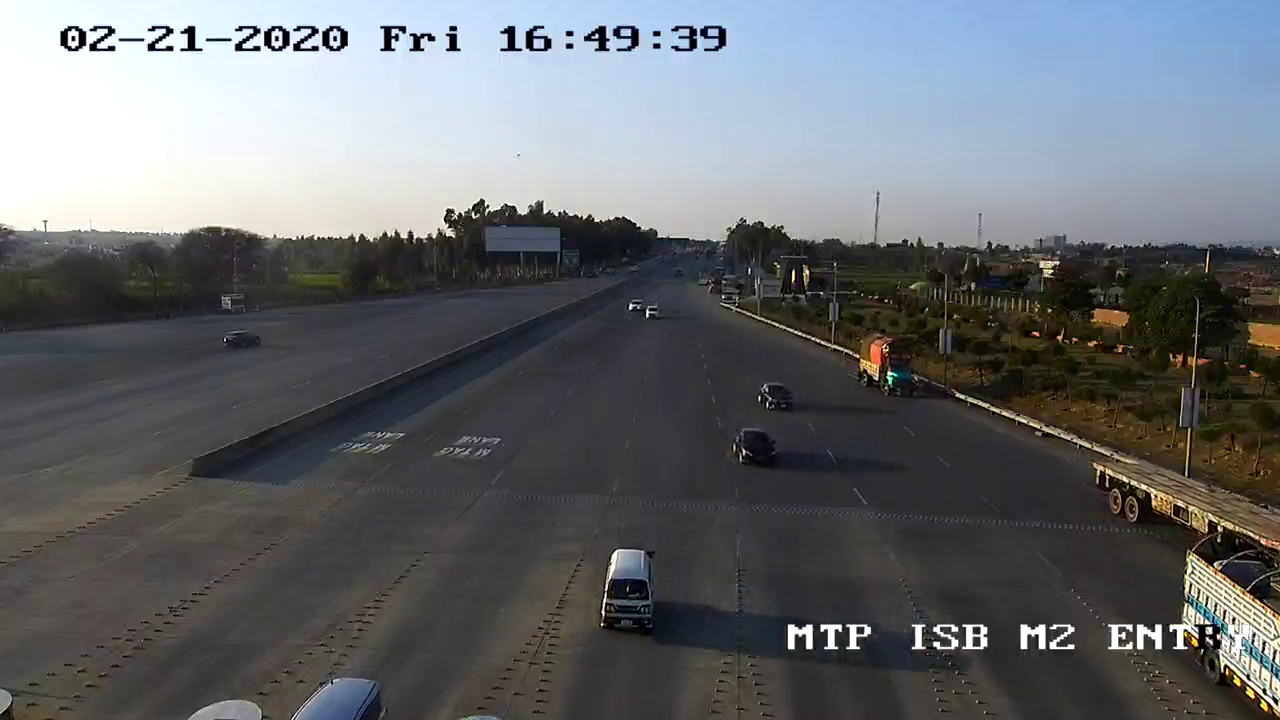f1: (588, 544, 665, 641), (725, 423, 782, 475), (748, 374, 802, 421)
